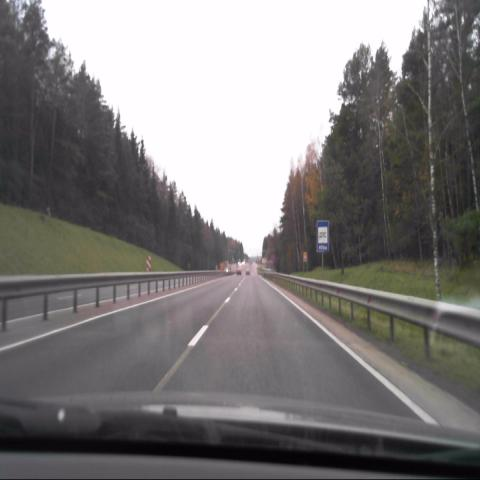7_12: (317, 220, 329, 252)
